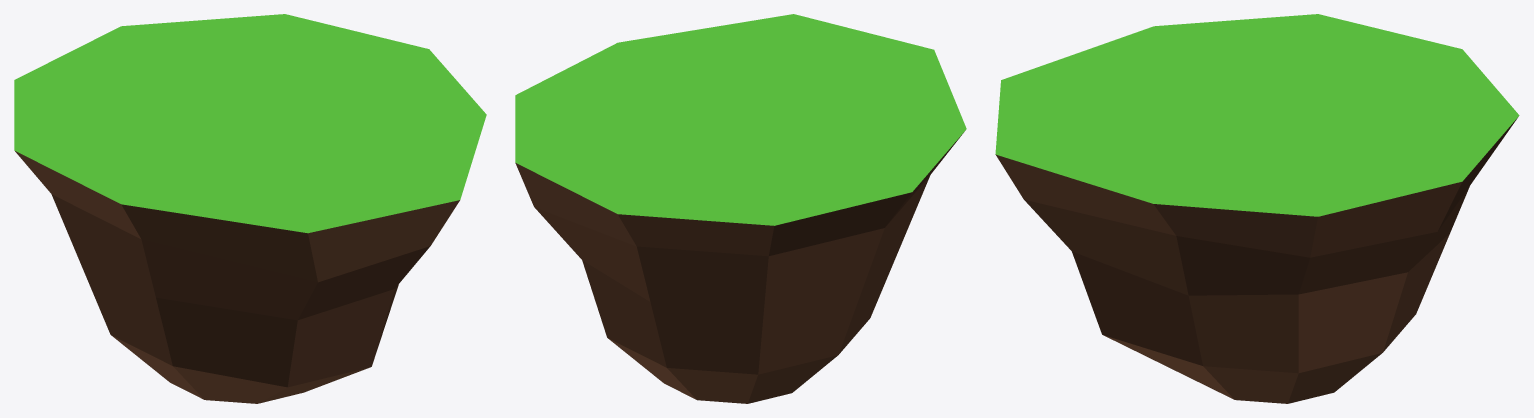
File: mini island 2.fbx
3 renders of one model, left to right at view 1: azimuth 30°, elevation 25°; view 2: azimuth 150°, elevation 25°; view 3: azimuth 270°, elevation 25°, orthographic. The views are drawn at different scales.
Parts seen in each view (by area): view 1: Cylinder; view 2: Cylinder; view 3: Cylinder.
Part boxes in pixels (x1,y1,x2,y2): Cylinder: [14, 14, 486, 403]; Cylinder: [515, 14, 966, 403]; Cylinder: [995, 14, 1519, 403].
Size of the model in its own units: 611 by 360 by 667.
